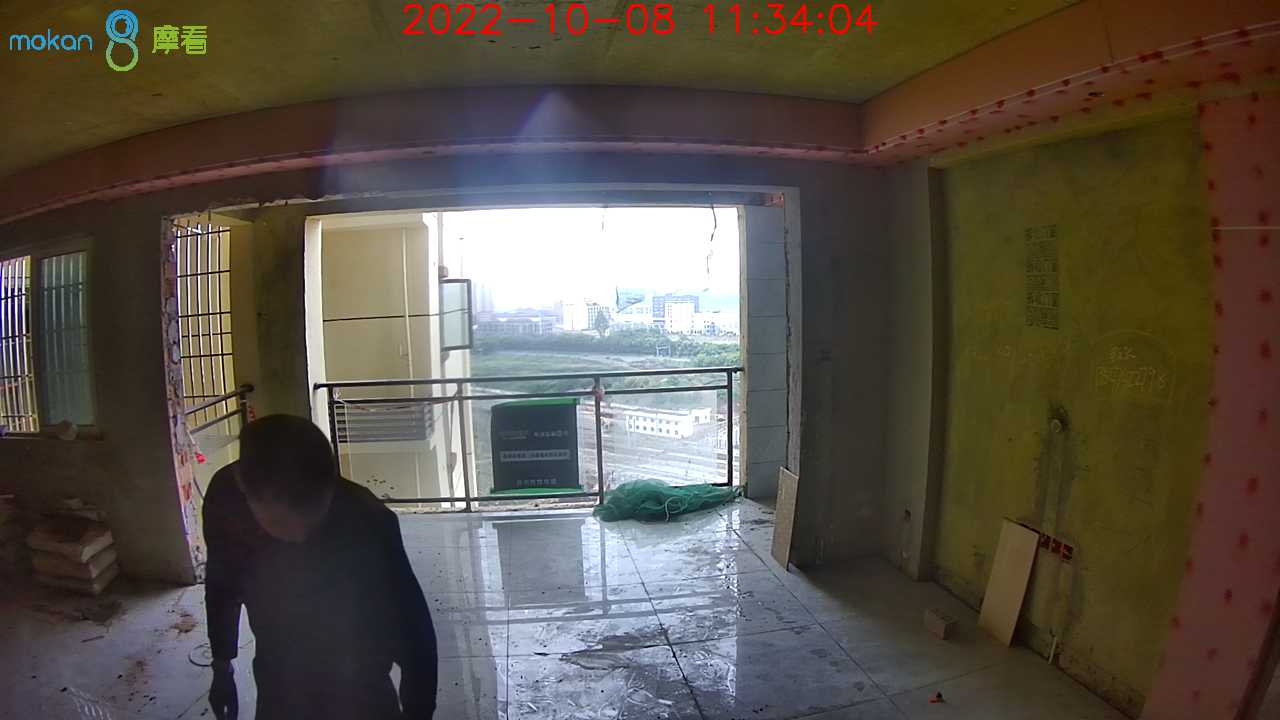people: (201, 412, 438, 720)
window: (318, 224, 749, 500)
